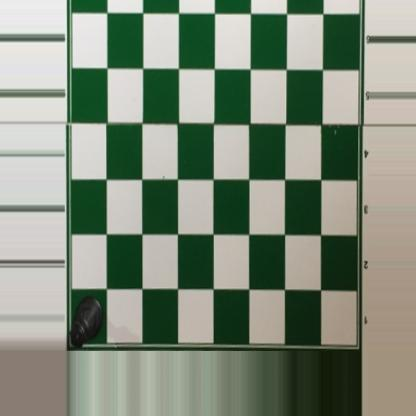black-queen: (68, 294, 105, 352)
